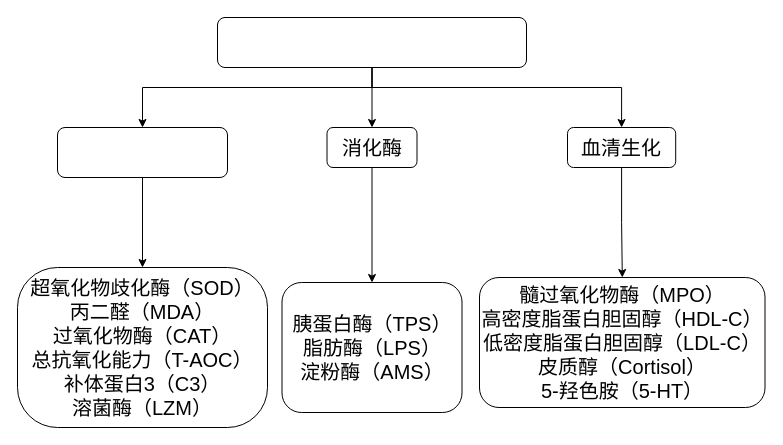
Image size: 783x445. Some labels were removed from this diagram. The centre of each missing label's shape, as x and y in pixels:
"中华鲈鱼生理生化采样" goes at (371,42).
"抗氧化、免疫指标" goes at (142,152).
